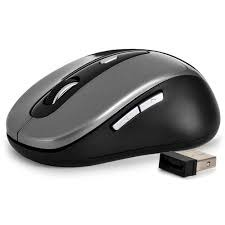mouse: (3, 43, 223, 158)
